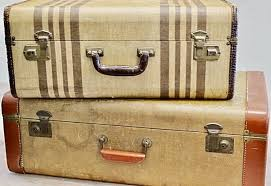suitcase: (1, 69, 268, 186), (1, 1, 240, 101)
